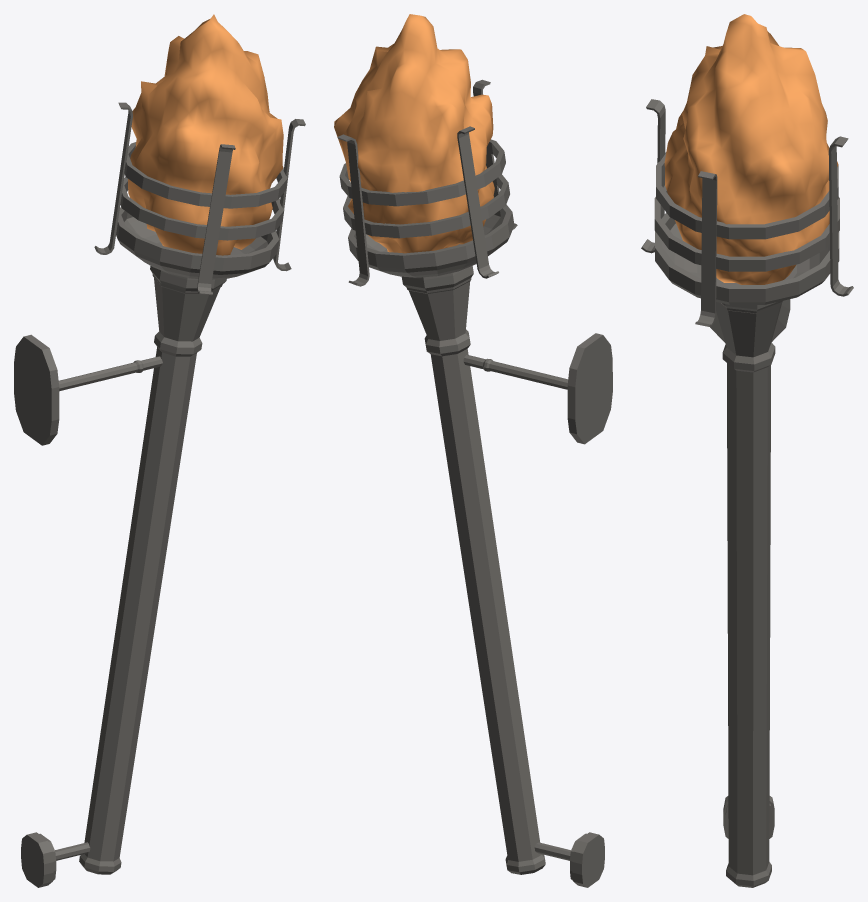
Rendered from JailTortch.fbx.
3 views of the same model, side by side, from view 1: azimuth 30°, elevation 25°; view 2: azimuth 150°, elevation 25°; view 3: azimuth 270°, elevation 25° (orthographic). The views are drawn at different scales.
Visible parts, largest first — view 1: Tortch; view 2: Tortch; view 3: Tortch.
Part boxes in pixels (x1,y1,x2,y2): Tortch: (14,14,305,887); Tortch: (334,14,612,887); Tortch: (641,14,853,887).
Size of the model in its own units: 31.48 by 97.84 by 20.36.
